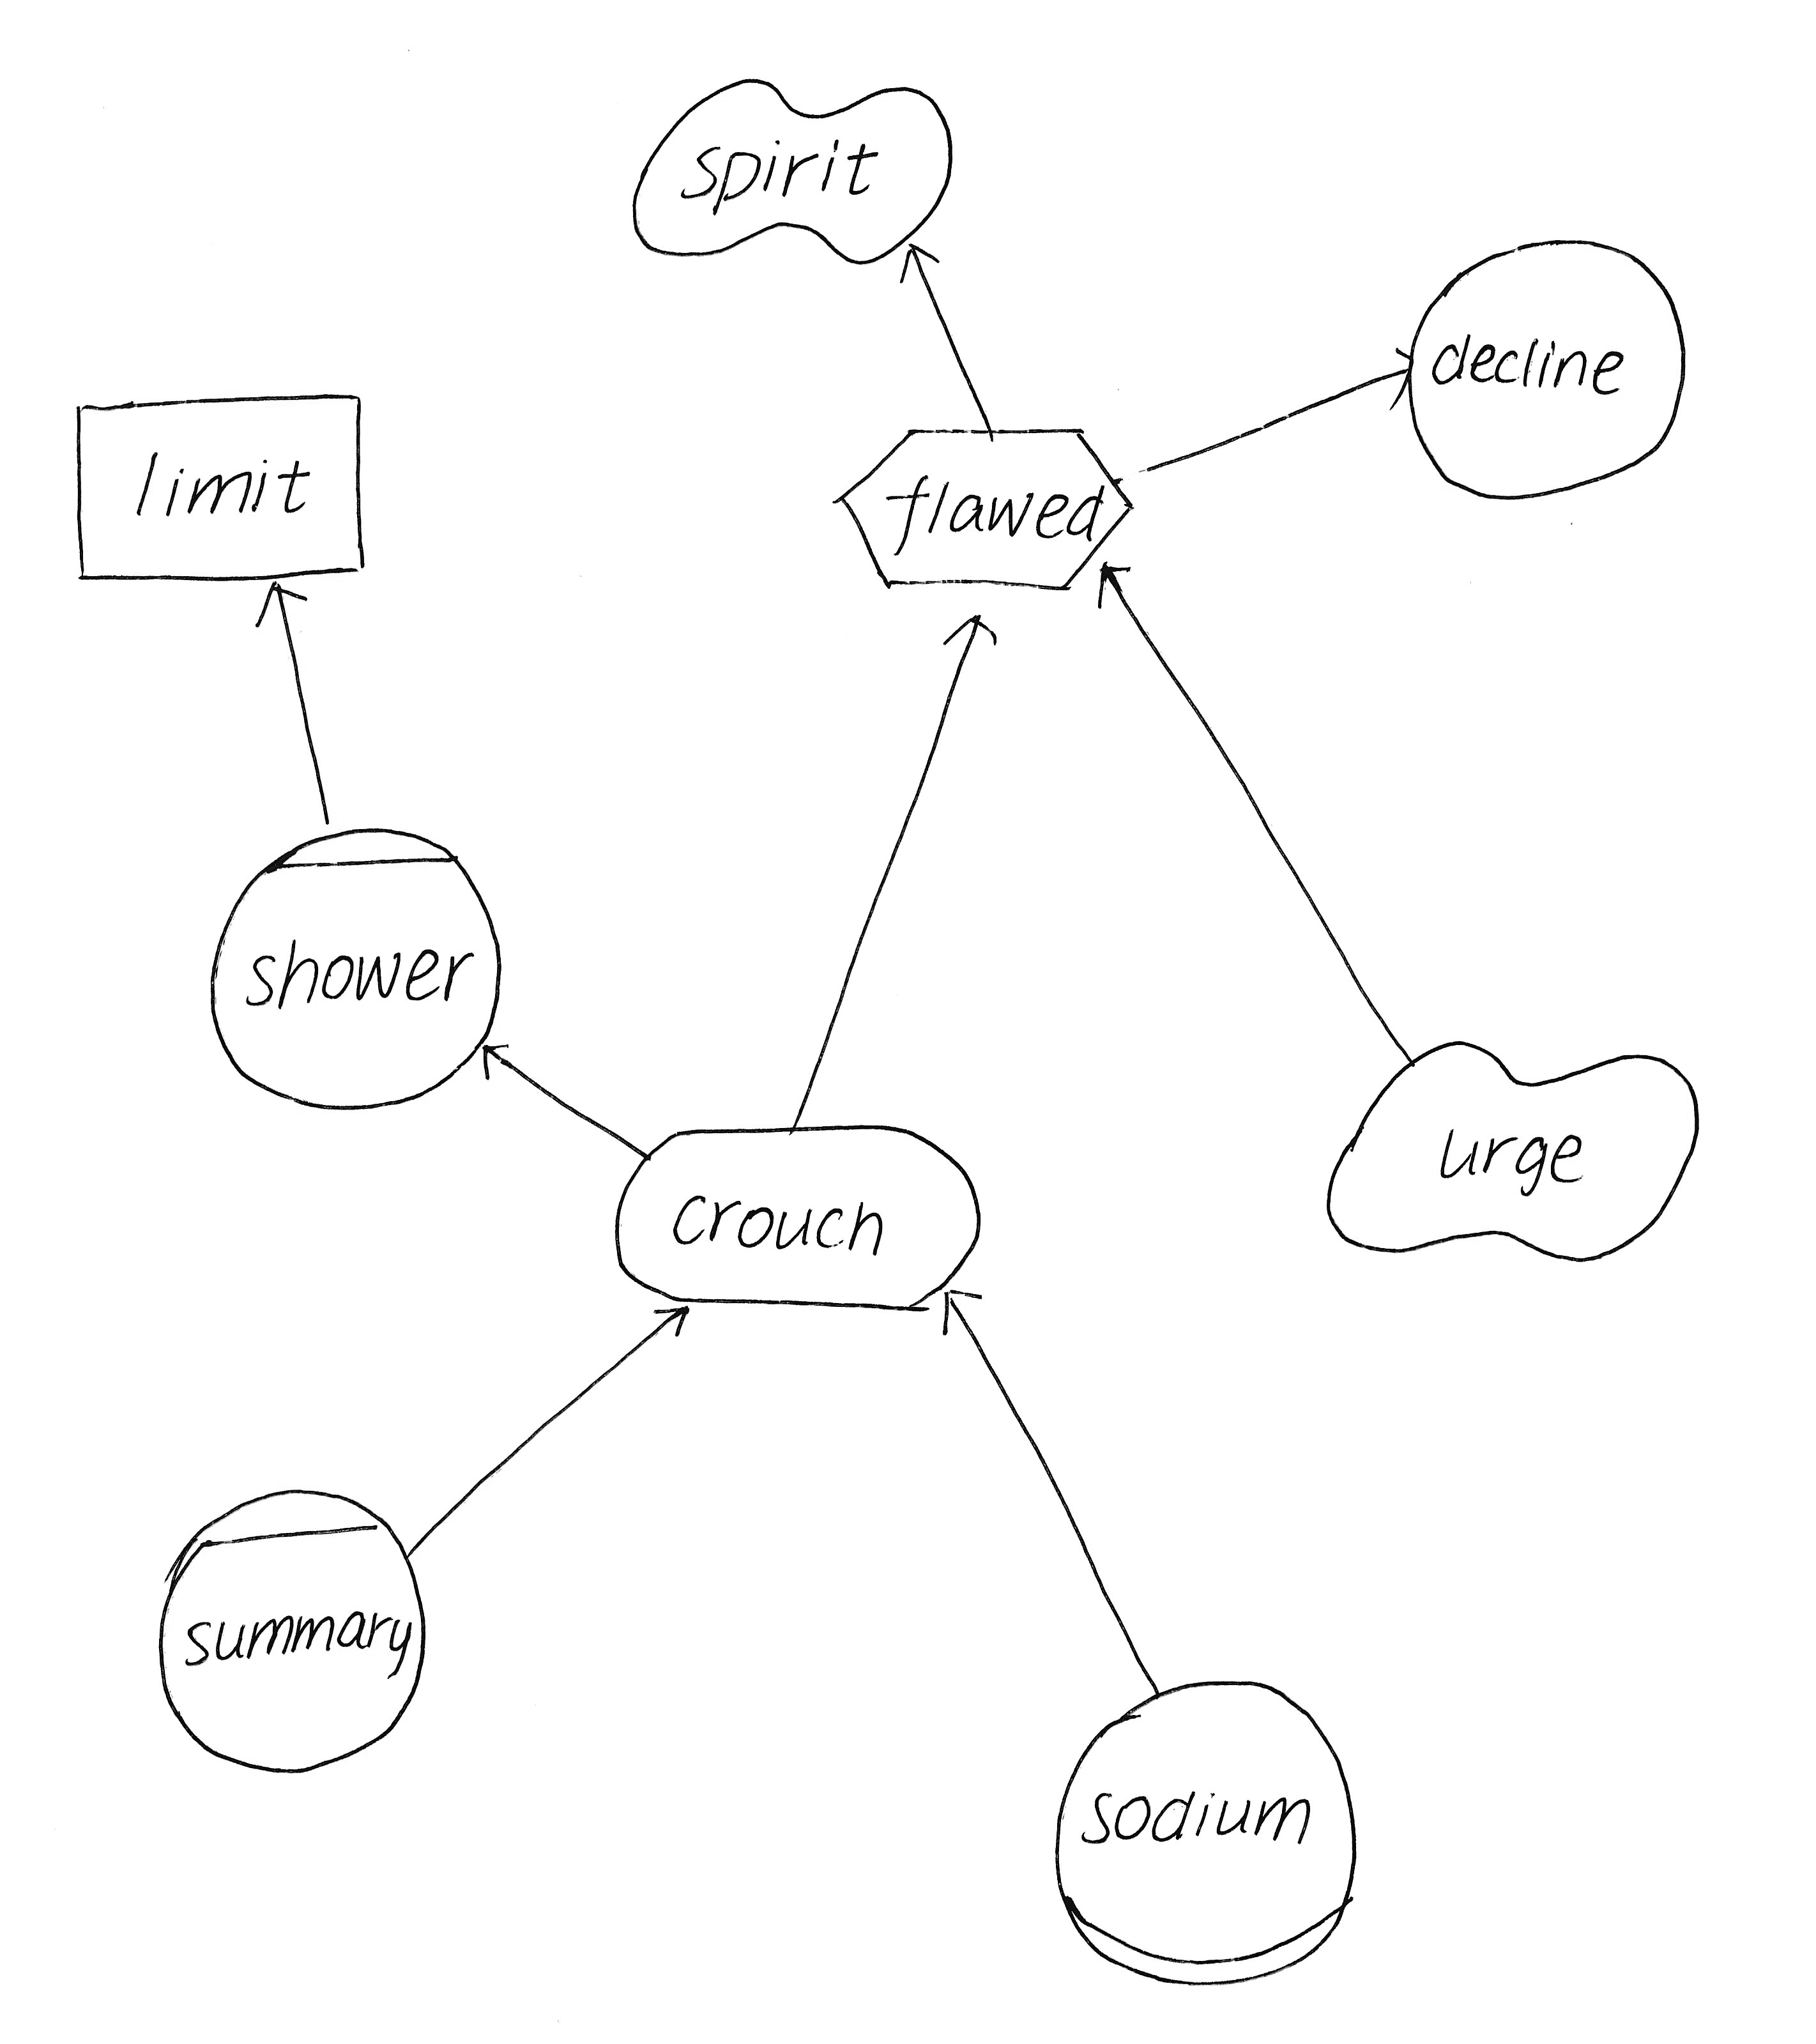actor: (1383, 223, 1700, 510)
agent: (191, 810, 519, 1124), (142, 1467, 440, 1786)
arrow: (247, 570, 323, 645), (465, 1017, 529, 1101), (929, 1271, 994, 1350), (889, 231, 959, 300), (1373, 331, 1425, 422), (934, 603, 1004, 663), (1085, 549, 1141, 622), (649, 1290, 703, 1350)
goal: (594, 1103, 1006, 1329)
quality: (1311, 1022, 1720, 1280), (610, 61, 978, 279)
resource: (51, 370, 386, 601)
role: (1038, 1658, 1381, 1997)
task: (833, 410, 1148, 598)
